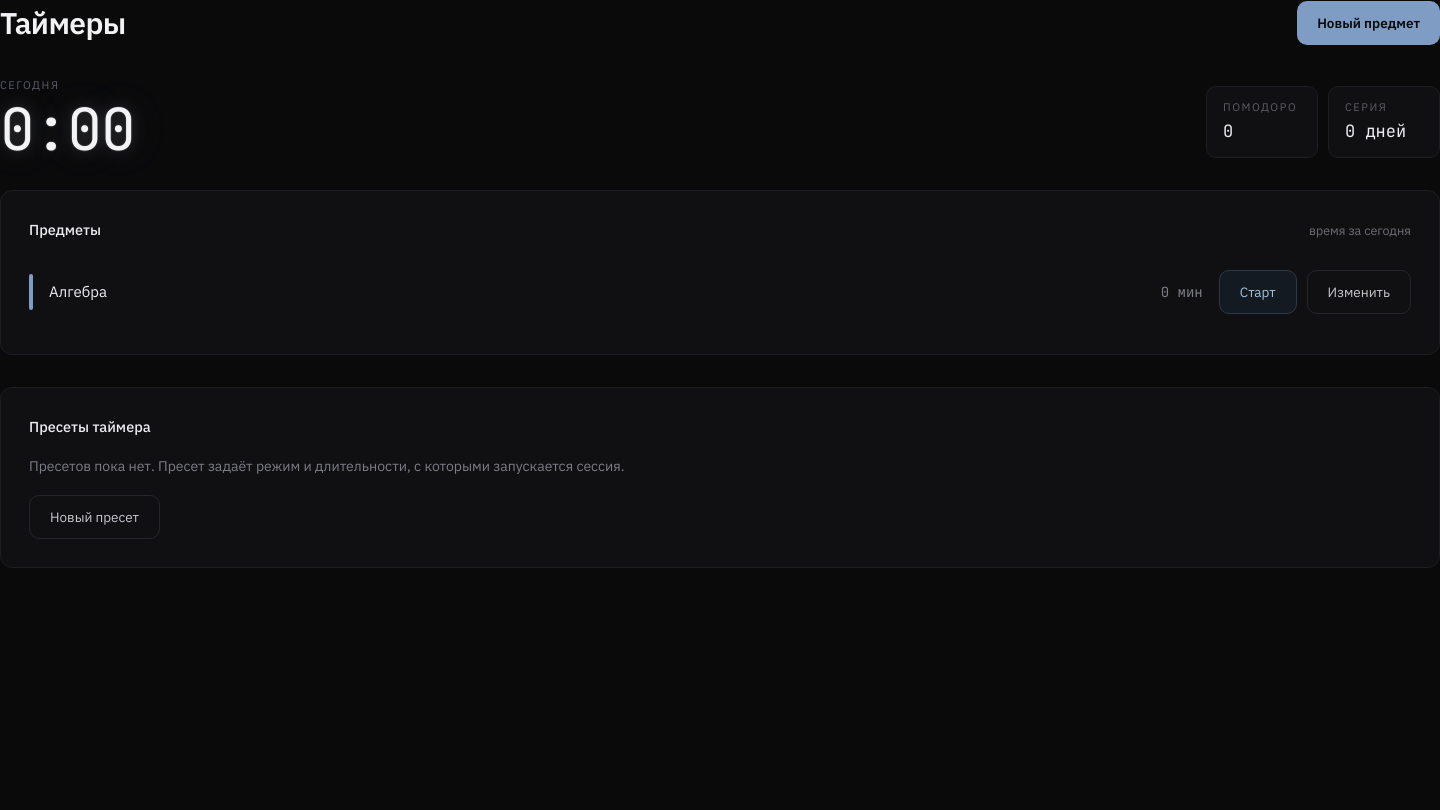
Test: Timers › перечитывает данные после сохранения в диалоге
The image size is (1440, 810).
expect the text "Алгебра" is shown: met, box [49,282,107,301]
Click the button "Новый предмет" at coordinates (1369, 23), box [1297,1,1439,45]
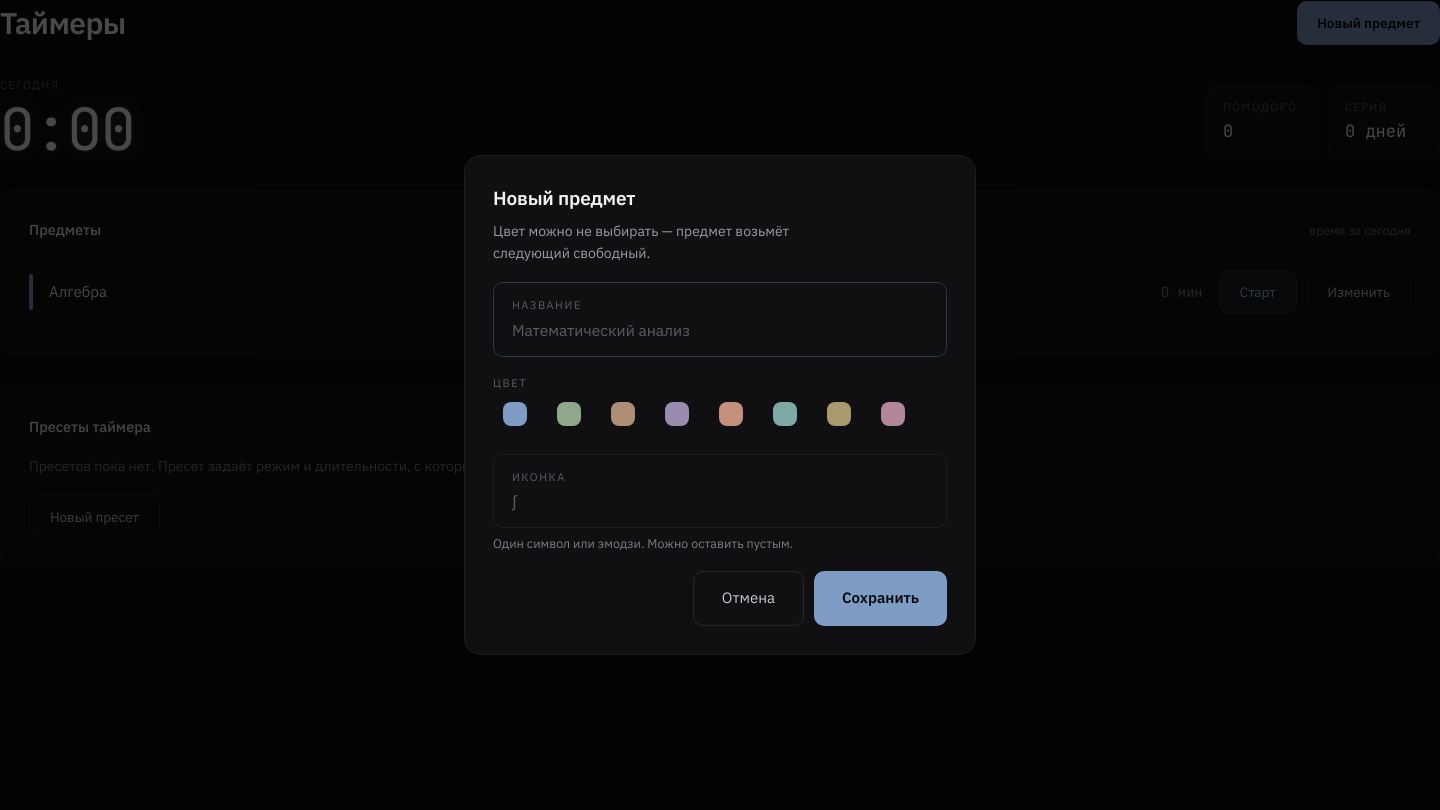
Type "Физика" into the field labelled "Название" at coordinates (720, 330), box [512,319,928,342]
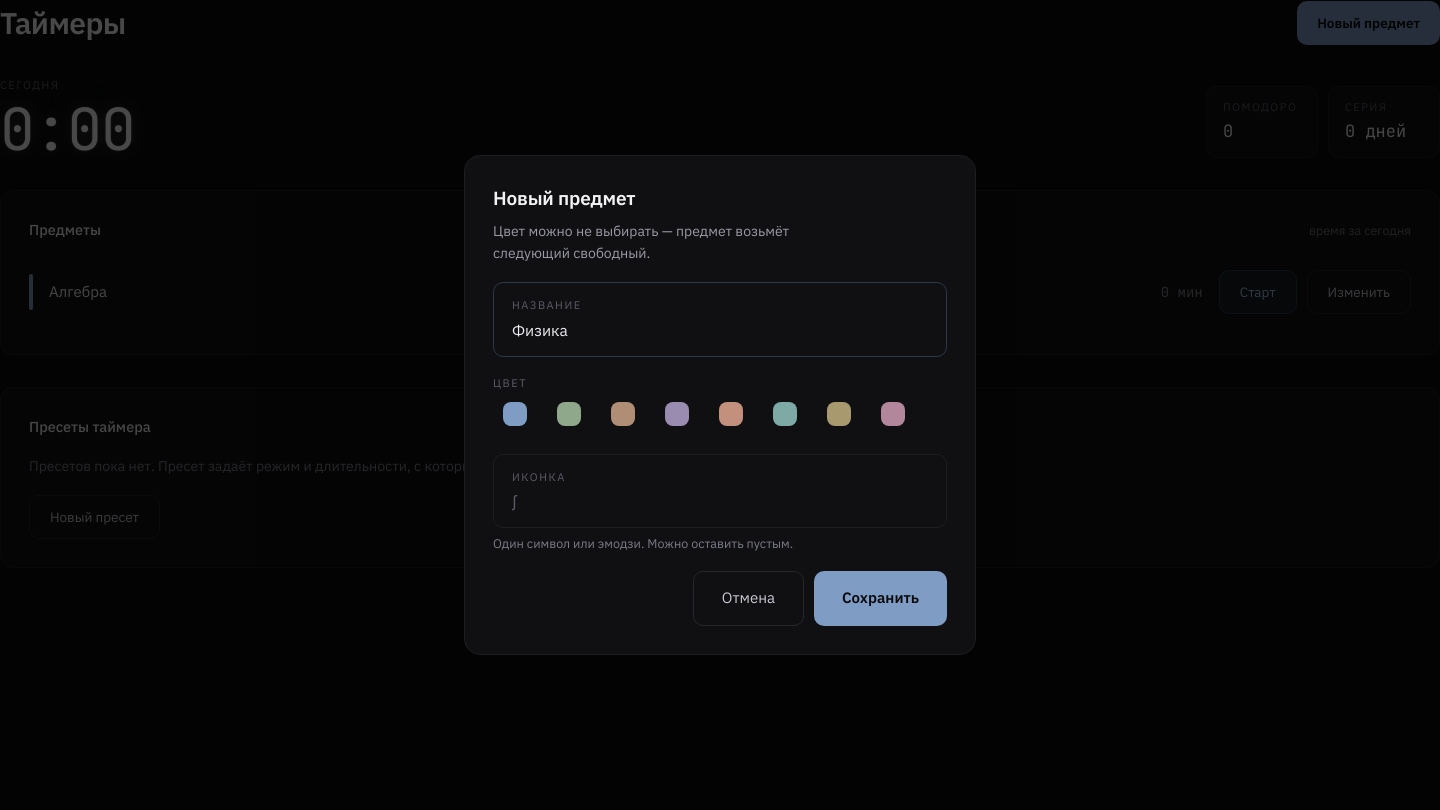
Click the button "Сохранить" at coordinates (880, 598), box [814,571,947,626]
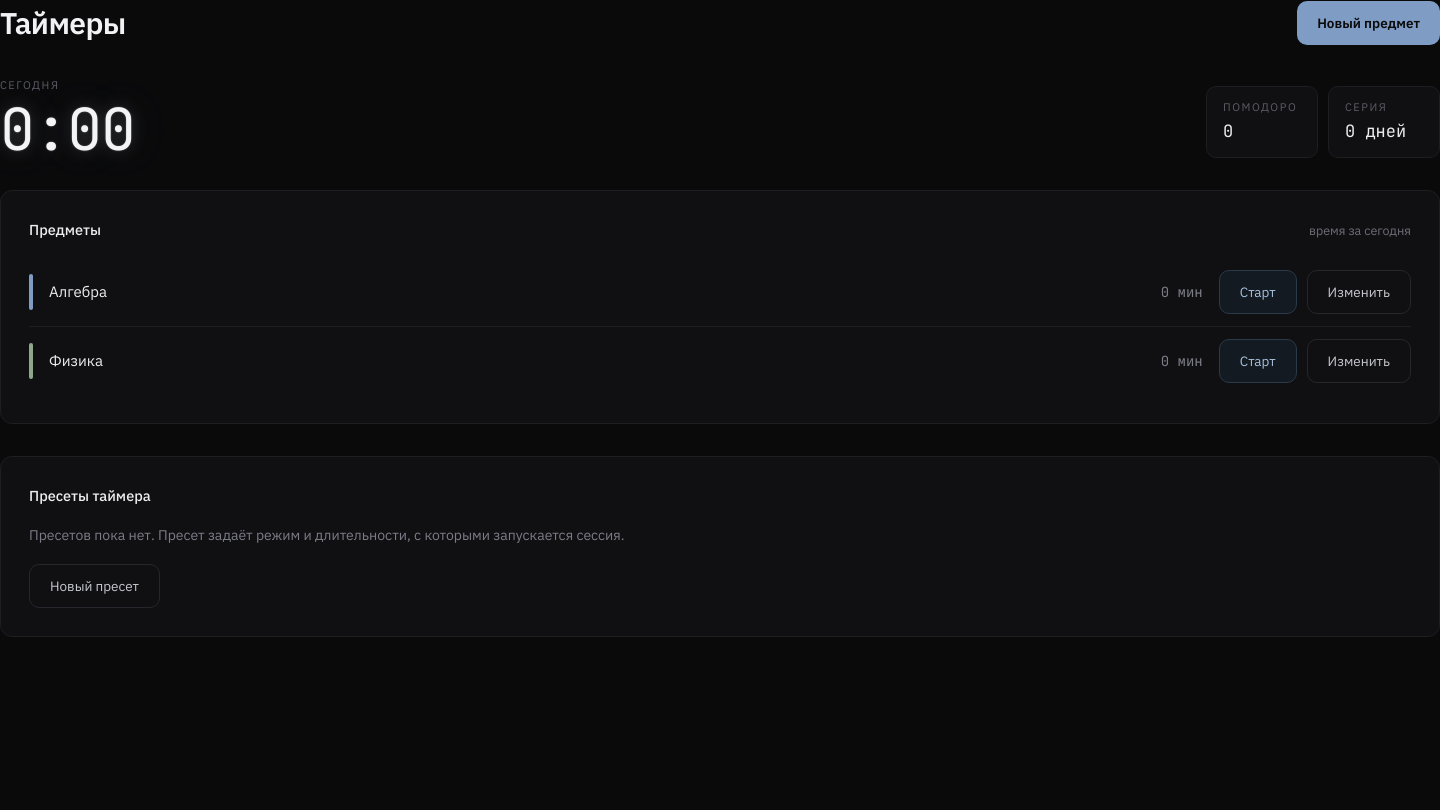
expect the text "Физика" is shown: met, box [49,351,103,370]
